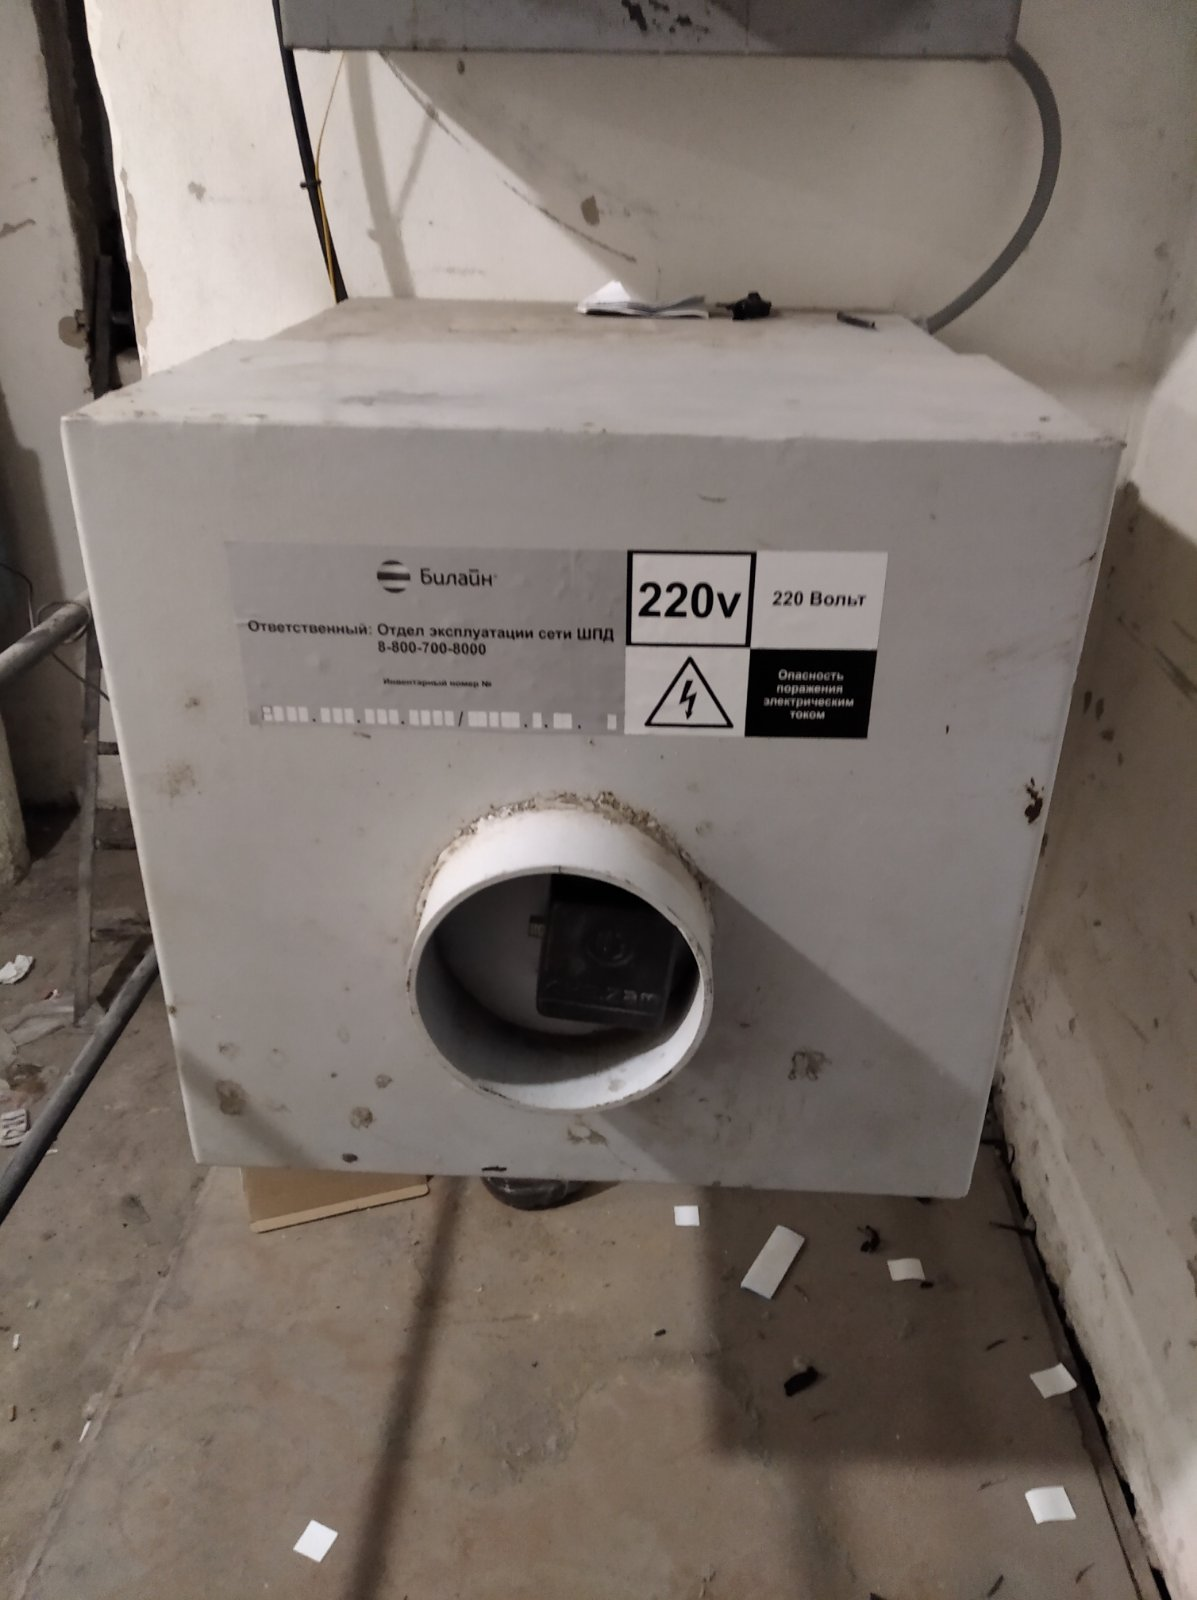shta-9: (47, 280, 1139, 1220)
